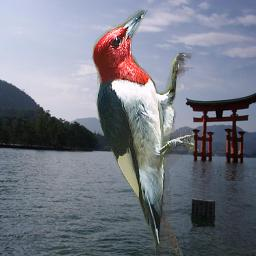Woodpecker: (91, 10, 194, 255)
